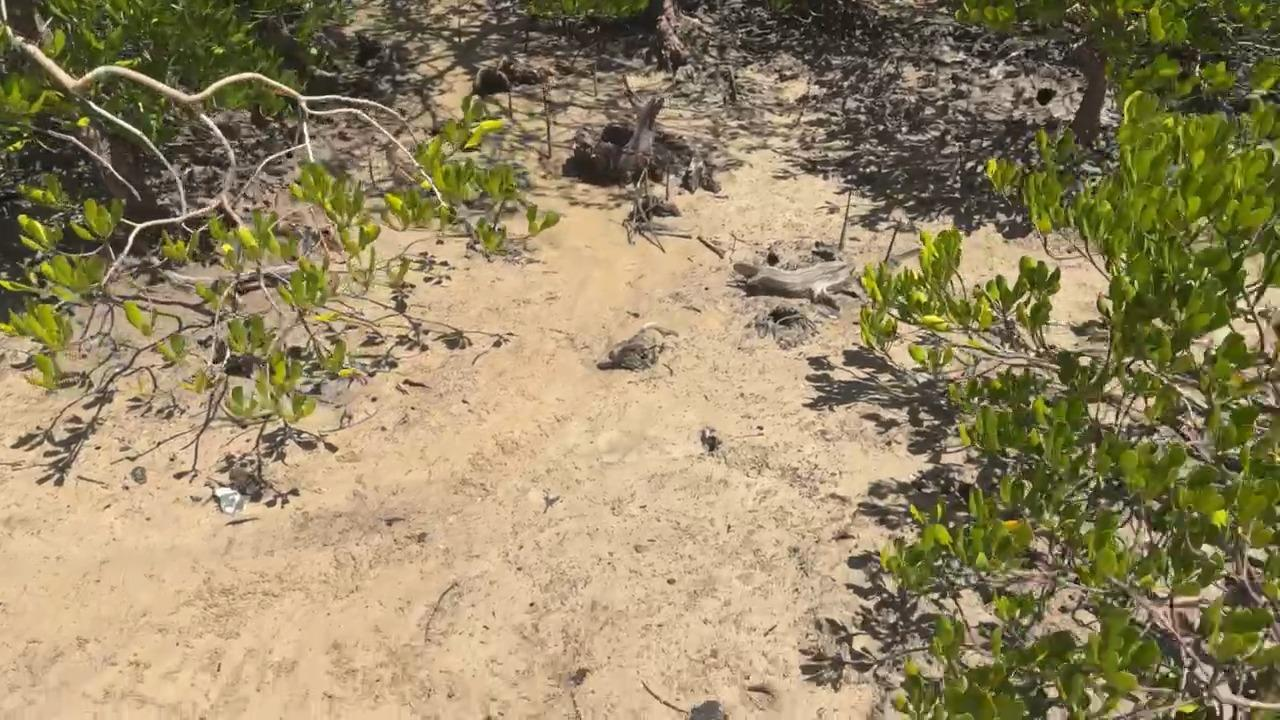Tree: (838, 191, 853, 251), (541, 86, 552, 158), (883, 221, 900, 264), (590, 60, 598, 96), (524, 28, 529, 54), (509, 92, 512, 119)
